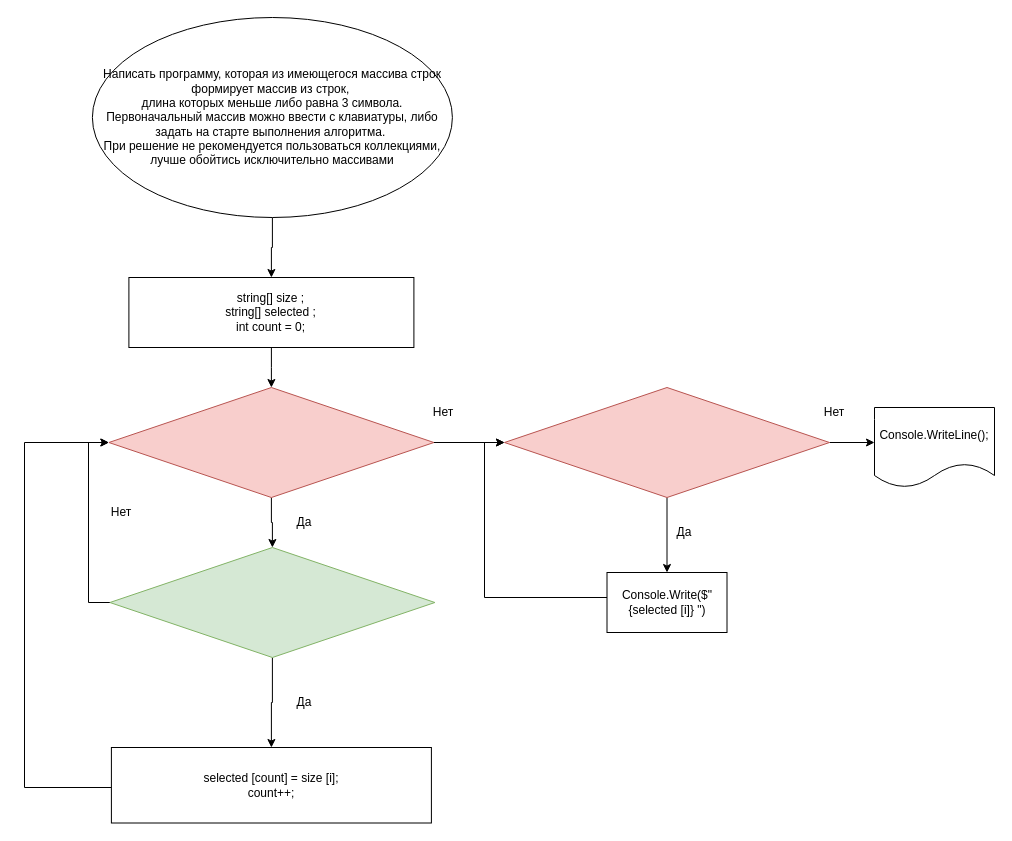
This 1012x841 diagram has some shape labels left out. The centre of each missing label's shape, as x and y in pixels:
for (int i = 0; i < selected .Length; i++): the point at 667,442
for (int i = 0; i < size .Length; i++): the point at 271,442
if (size [i].Length <= 3): the point at 272,602
